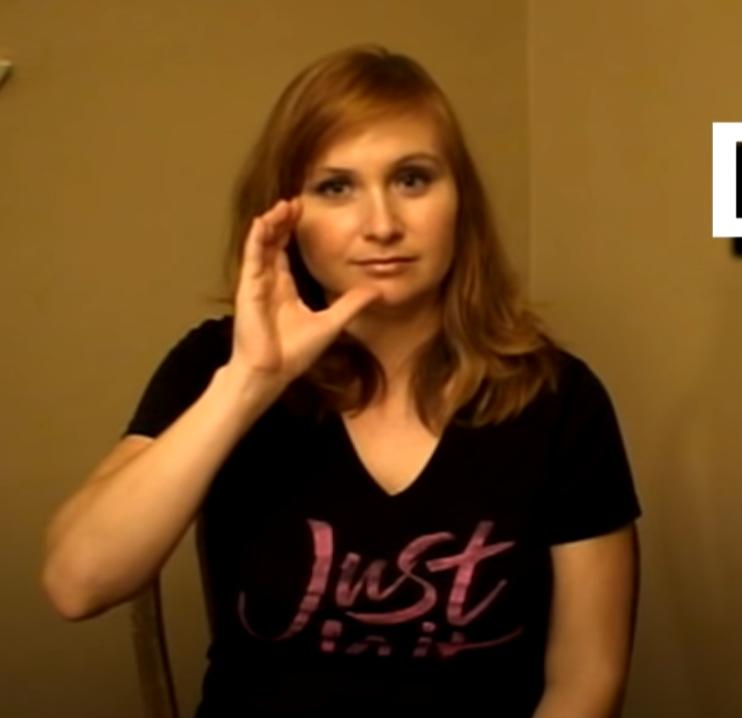drink: (211, 165, 406, 421)
